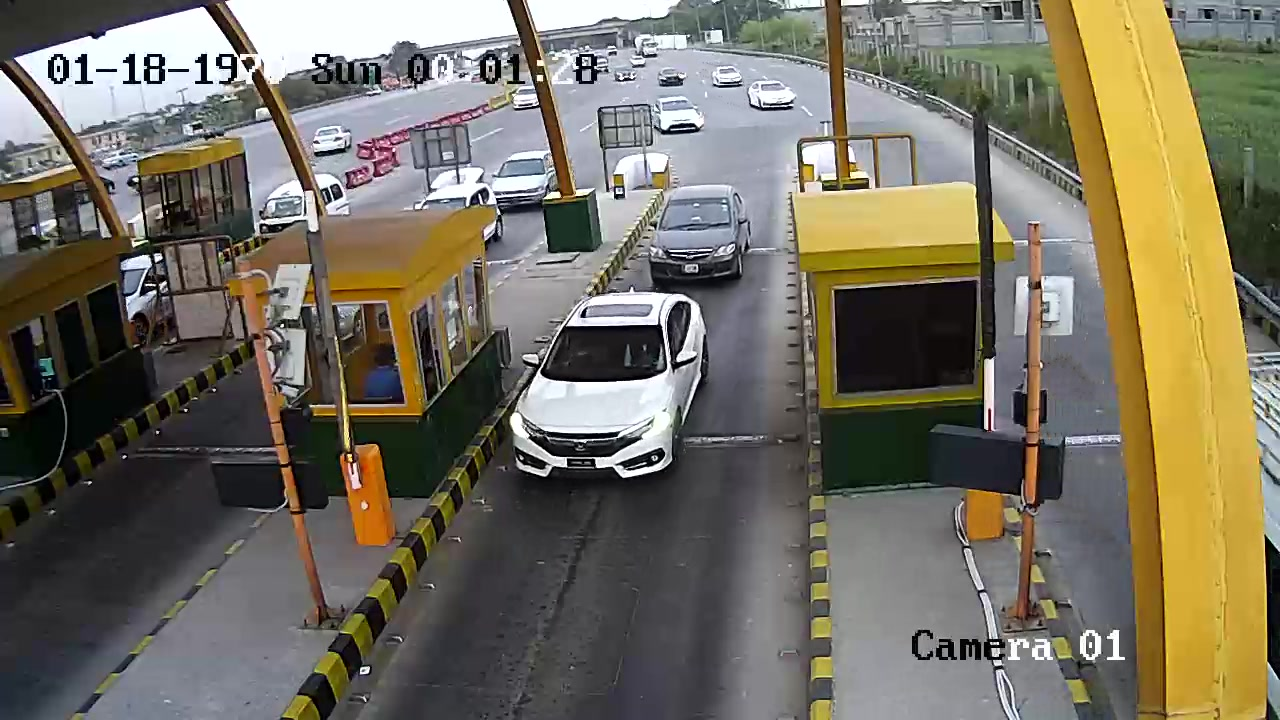F1: (492, 289, 715, 499)
